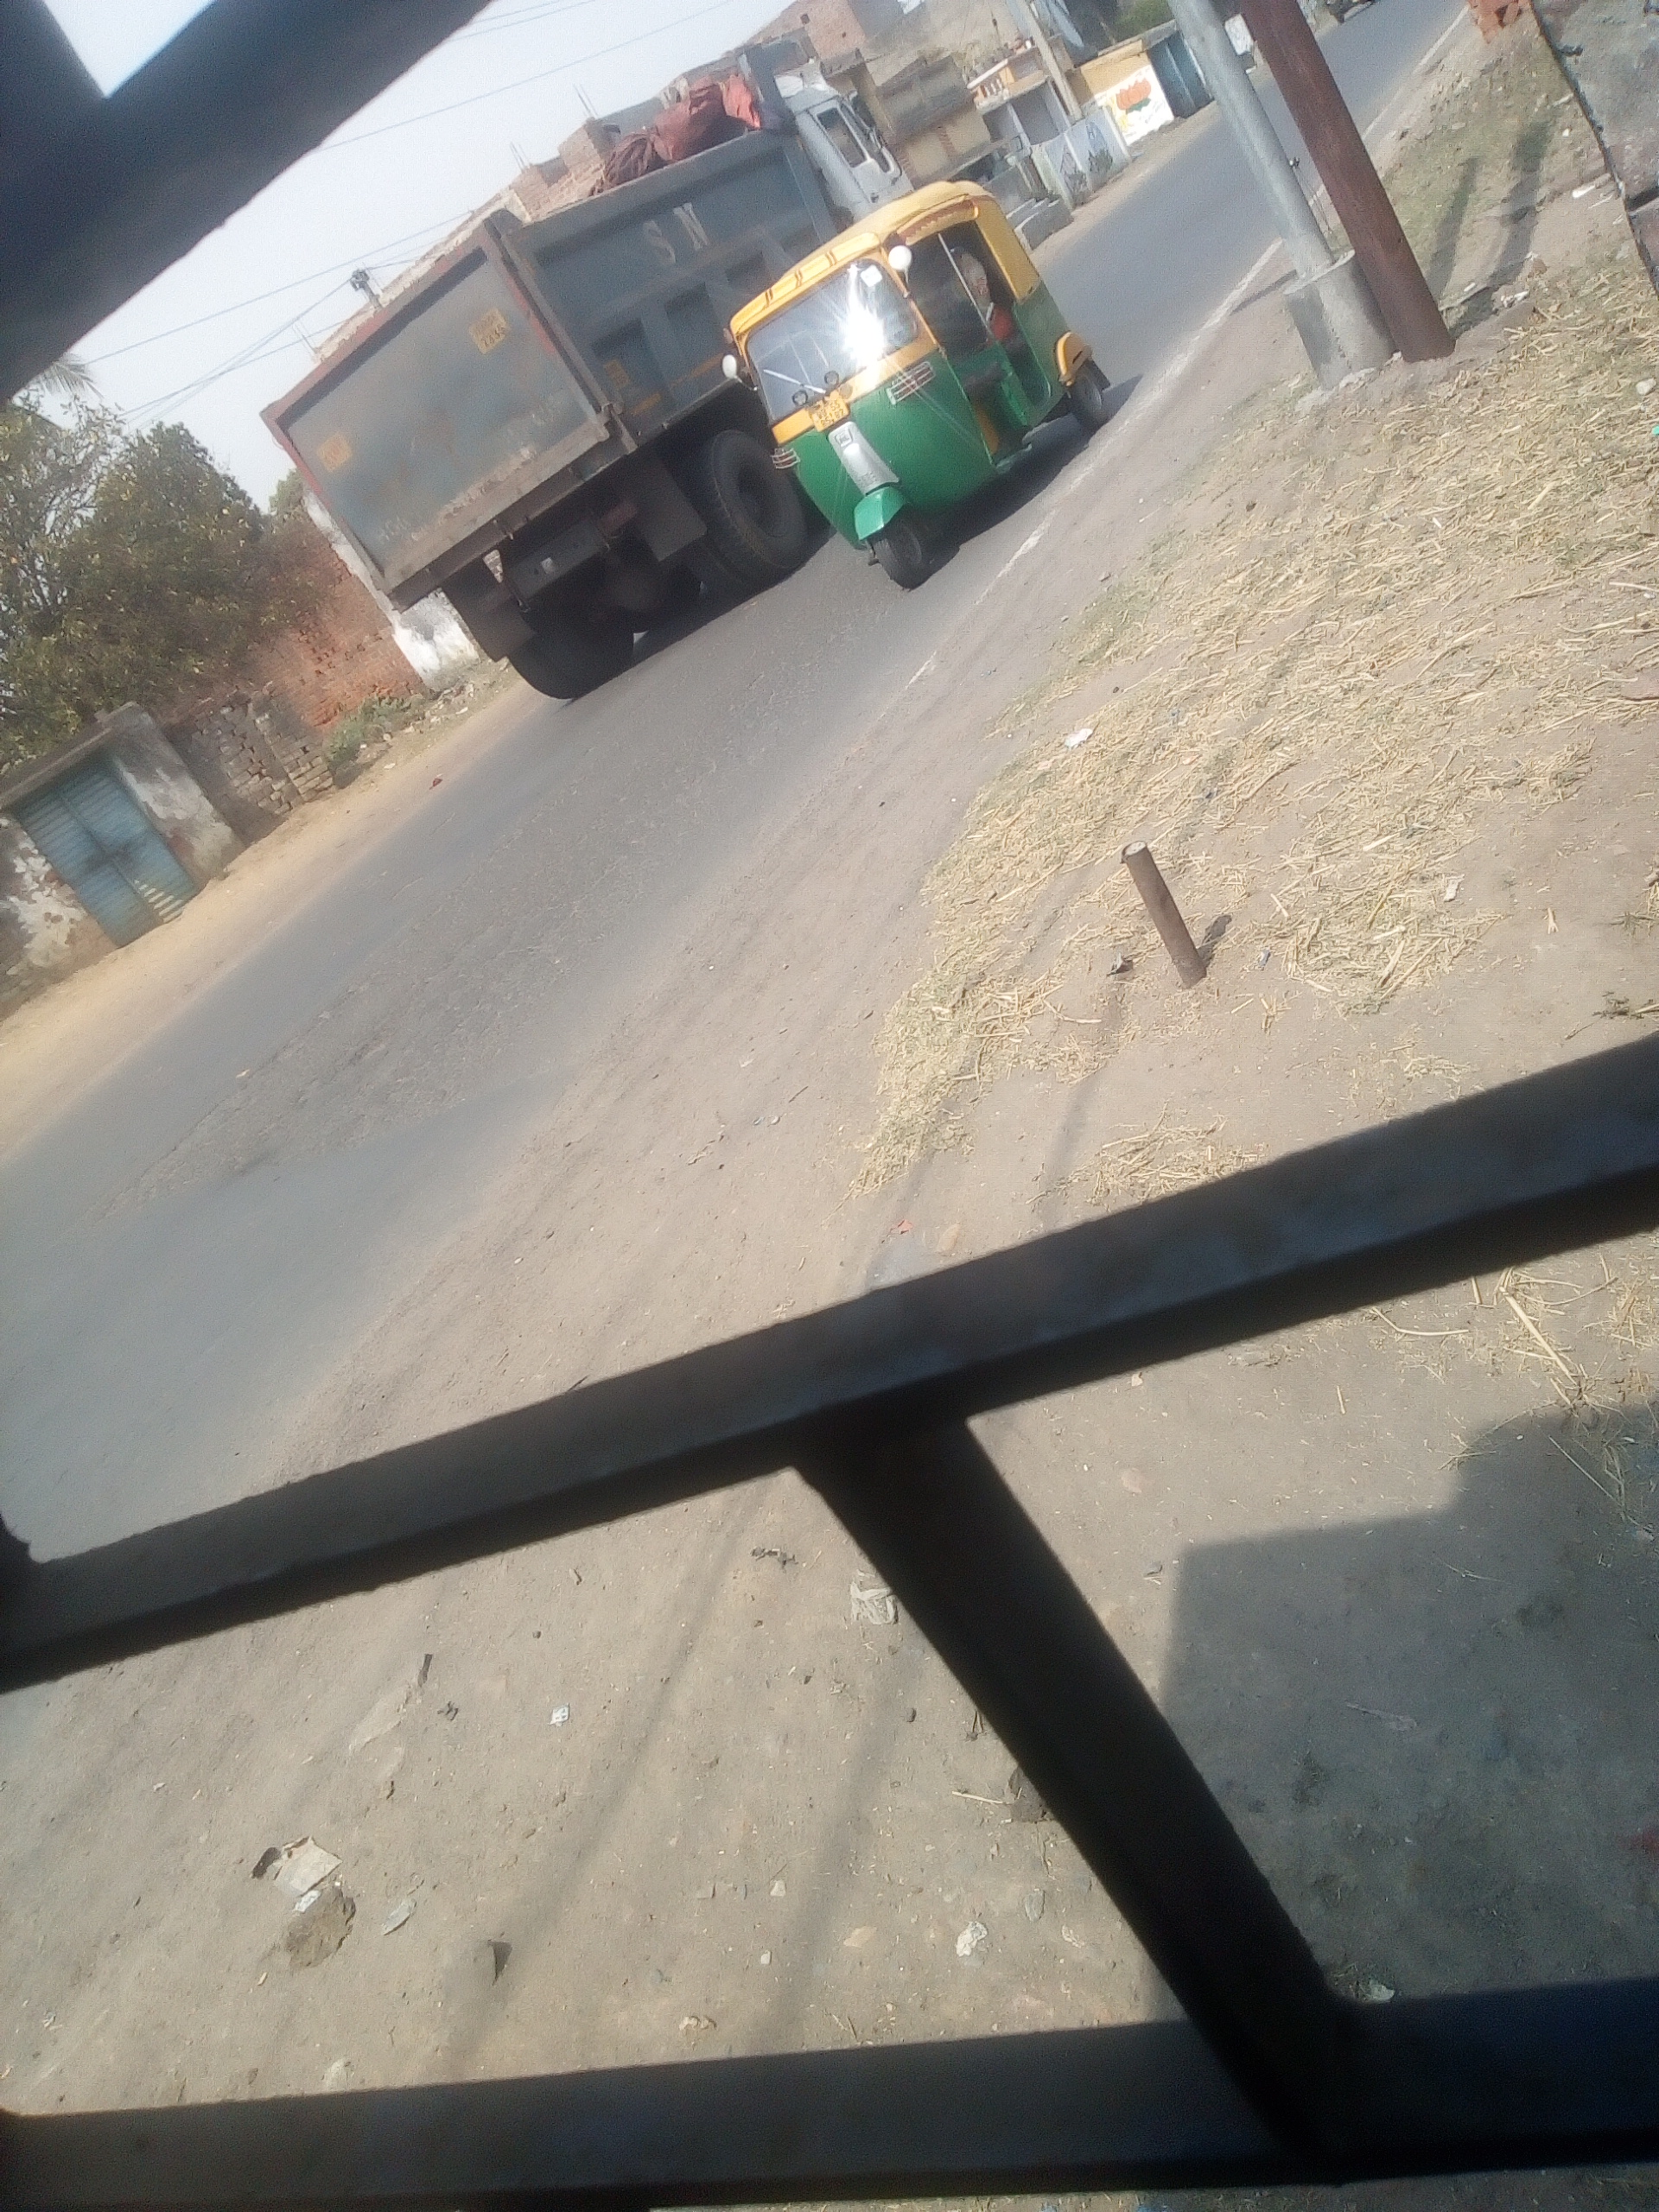truck: (258, 21, 920, 704)
